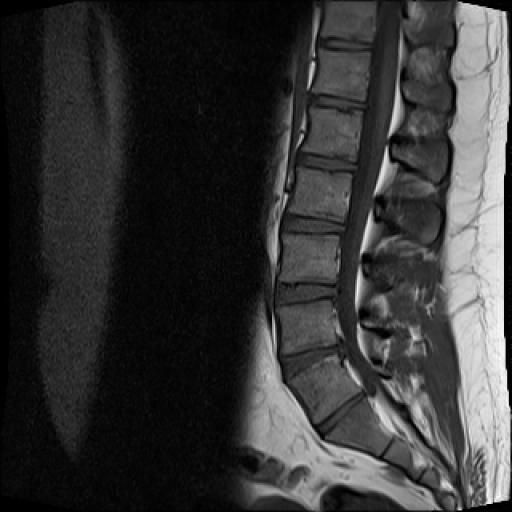L1: (301, 106, 362, 162)
L2: (288, 166, 352, 224)
L3: (279, 233, 340, 284)
L4: (277, 300, 338, 355)
L5: (286, 354, 361, 425)
S1: (324, 399, 396, 457)
